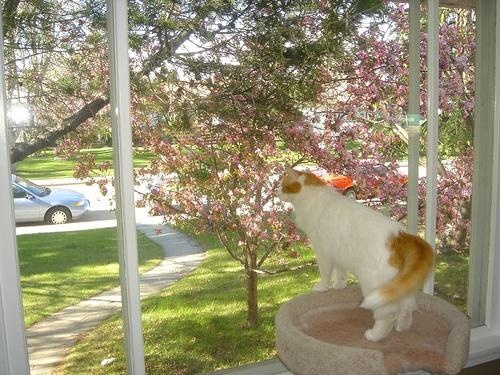car: (11, 174, 91, 226)
cat: (276, 163, 436, 343)
